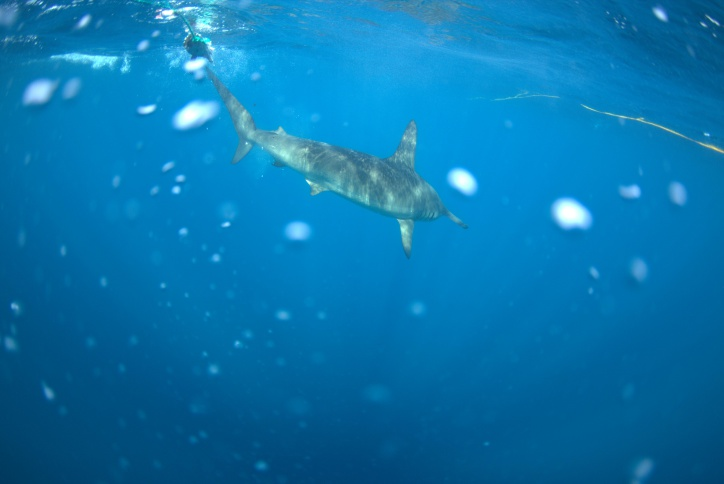Hammer: (203, 53, 479, 278)
